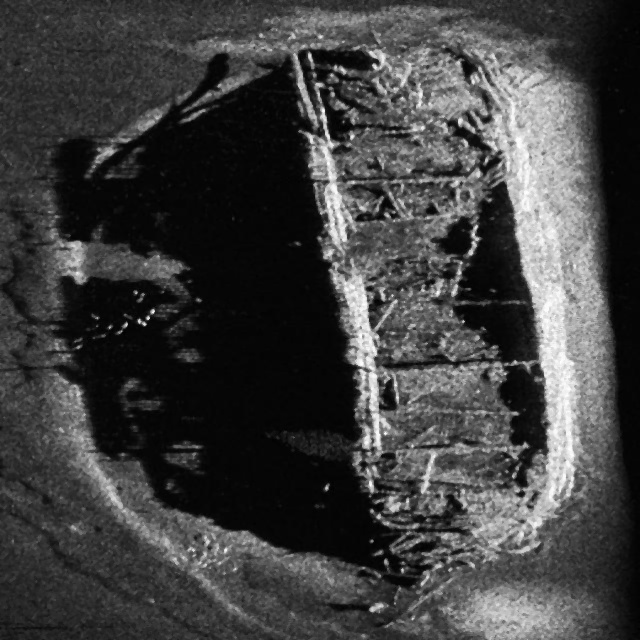Ship: (249, 27, 600, 607)
